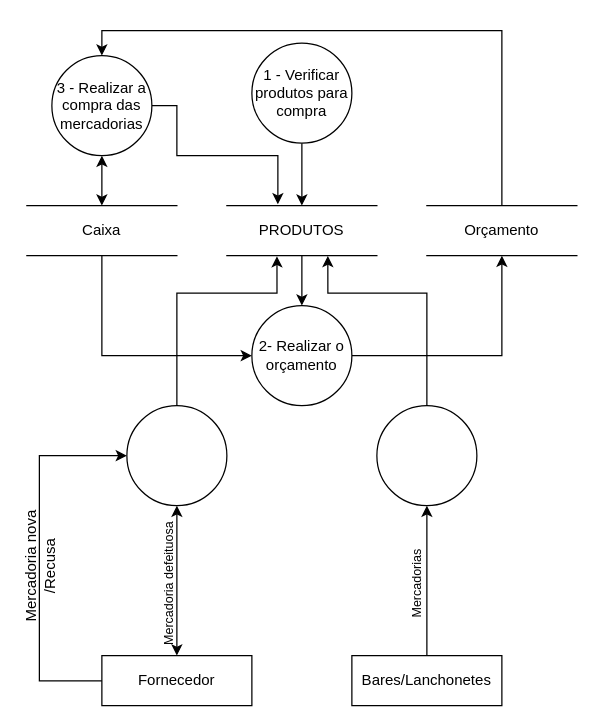
The diagram is 599 pixels wide and 728 high, and some of its shapes have lost their labels. The shapes that lost their labels are listed below. From the top down, each one's centre as x and y in pixels, then its label:
the point at 176,455: 5 - Troca de mercadorias defeituosas
the point at 426,455: 4- Troca de mercadorias entre bares
